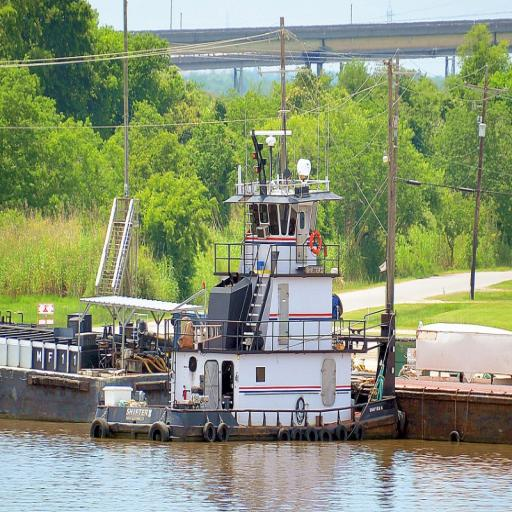tugboat: (89, 127, 406, 452)
